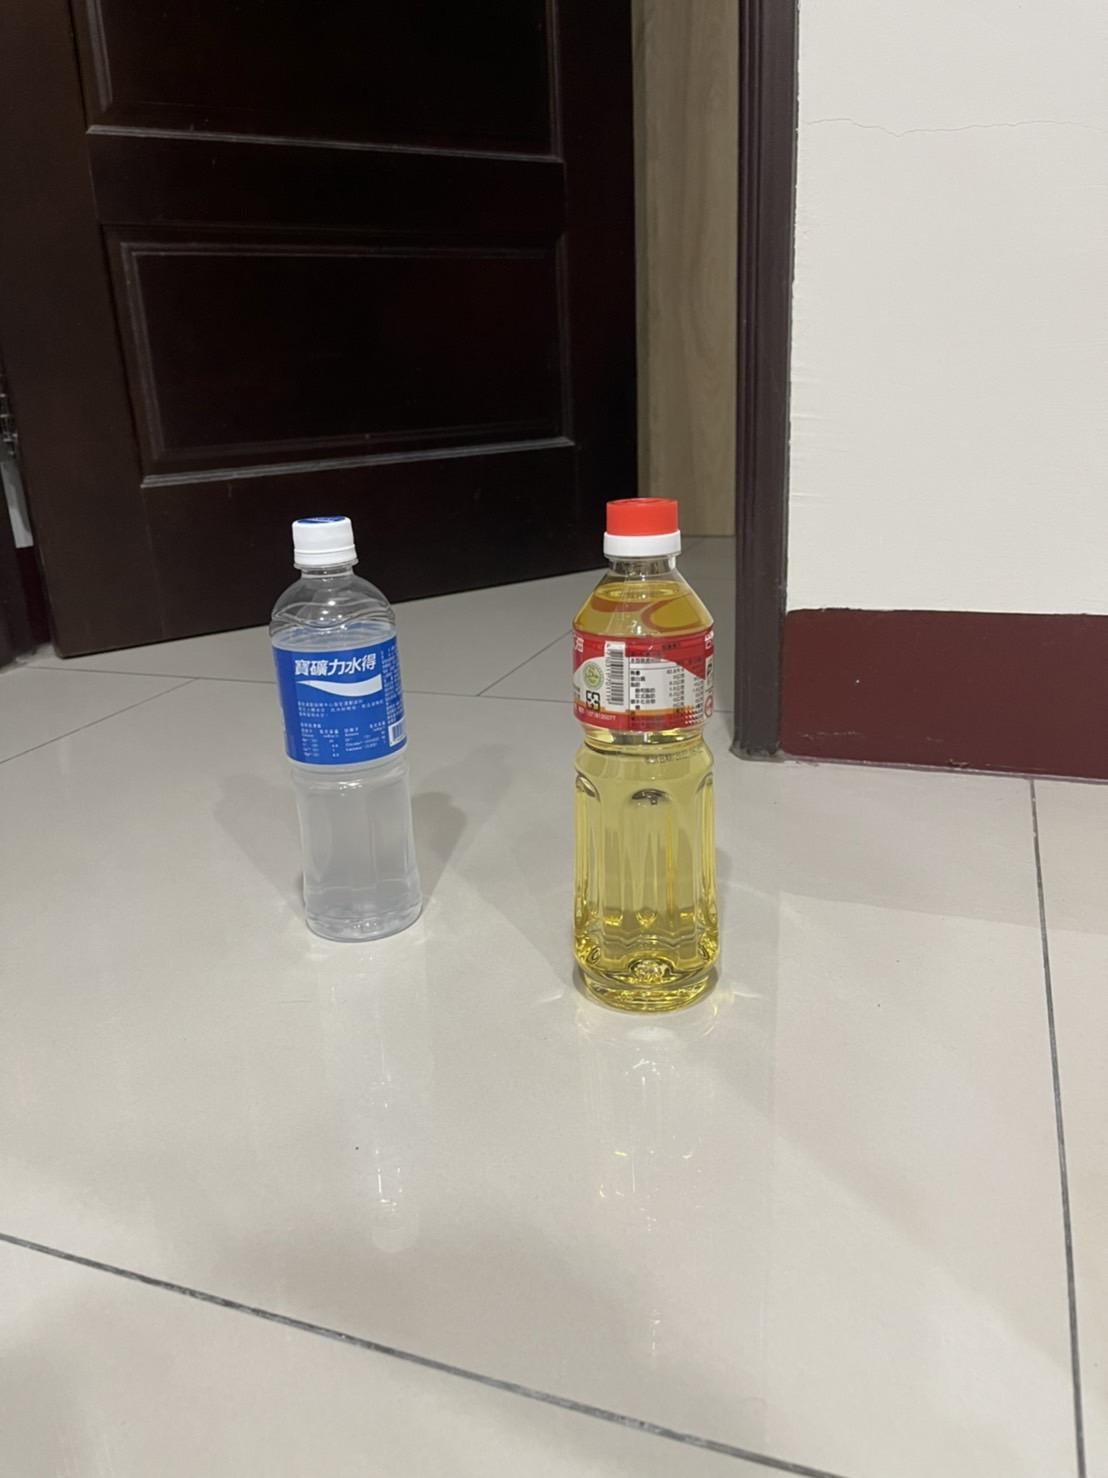bottle: (555, 485, 734, 1015), (263, 497, 440, 951)
